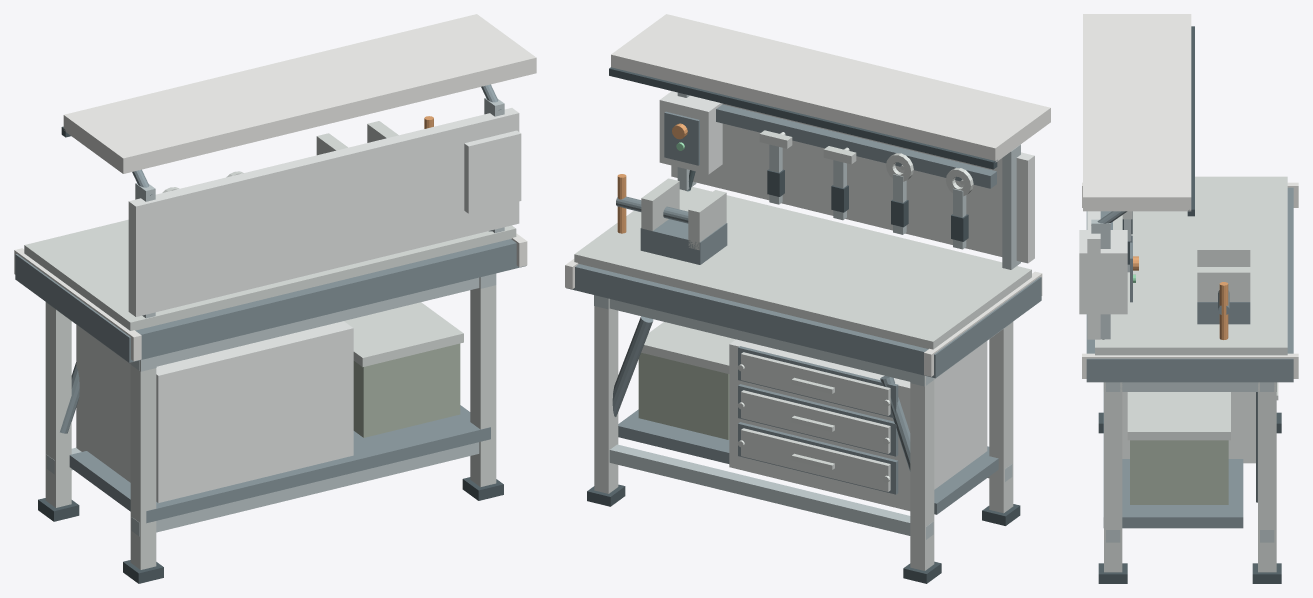
Rendered from exterior_workbench.glb.
The picture shows the model from 3 angles, left to right: view 1: azimuth 30°, elevation 25°; view 2: azimuth 150°, elevation 25°; view 3: azimuth 270°, elevation 25°; orthographic projection. The views are drawn at different scales.
Parts seen in each view (by area): view 1: splash_plate_white_ceramic, storage_cabinet_white_ceramic, weather_shelter_white_painted, worktop_core_dark_alloy, bench_frame_satin_steel, worktop_surface_satin_steel, lower_shelf_dark_alloy, bench_frame_alloy, service_crate_olive, service_crate_lid_satin_steel, service_power_box_white_ceramic, rubber_foot_black_rubber (+3 smaller); view 2: worktop_surface_satin_steel, weather_shelter_white_painted, splash_plate_white_ceramic, bench_frame_satin_steel, storage_cabinet_white_ceramic, worktop_core_dark_alloy, drawer_front_warm_panel, bench_frame_alloy, service_crate_olive, tool_mount_rail_dark_alloy, lower_shelf_dark_alloy, drawer_rail_dark_alloy (+16 smaller); view 3: worktop_surface_satin_steel, weather_shelter_white_painted, bench_frame_satin_steel, worktop_core_dark_alloy, service_crate_olive, service_crate_lid_satin_steel, lower_shelf_dark_alloy, service_power_box_white_ceramic, vise_jaw_satin_steel, storage_cabinet_white_ceramic, bench_frame_alloy, splash_plate_white_ceramic (+6 smaller).
Part boxes in pixels (x1,y1,x2,y2): splash_plate_white_ceramic: (128,108,519,316); storage_cabinet_white_ceramic: (76,321,353,502); weather_shelter_white_painted: (63,14,536,173); worktop_core_dark_alloy: (15,239,526,362); bench_frame_satin_steel: (45,277,496,569); worktop_surface_satin_steel: (24,219,516,330); lower_shelf_dark_alloy: (69,405,490,523); bench_frame_alloy: (46,273,496,536); service_crate_olive: (353,343,460,437); service_crate_lid_satin_steel: (344,302,463,366); service_power_box_white_ceramic: (464,130,521,213); rubber_foot_black_rubber: (38,477,503,583); worktop_surface_satin_steel: (574,187,1031,349); weather_shelter_white_painted: (611,14,1050,162); splash_plate_white_ceramic: (671,103,1034,263); bench_frame_satin_steel: (594,298,1013,570); storage_cabinet_white_ceramic: (729,339,987,510); worktop_core_dark_alloy: (566,264,1041,378); drawer_front_warm_panel: (741,352,890,491); bench_frame_alloy: (594,295,1013,539); service_crate_olive: (638,352,729,439); tool_mount_rail_dark_alloy: (716,104,996,188); lower_shelf_dark_alloy: (618,409,998,514); drawer_rail_dark_alloy: (738,346,898,494); worktop_surface_satin_steel: (1095,176,1287,355); weather_shelter_white_painted: (1083,14,1191,211); bench_frame_satin_steel: (1104,382,1276,572); worktop_core_dark_alloy: (1086,187,1293,382); service_crate_olive: (1130,440,1228,504); service_crate_lid_satin_steel: (1127,392,1230,440); lower_shelf_dark_alloy: (1103,392,1243,528); service_power_box_white_ceramic: (1079,230,1127,314); vise_jaw_satin_steel: (1197,244,1250,301); storage_cabinet_white_ceramic: (1122,392,1255,463); bench_frame_alloy: (1103,382,1276,542); splash_plate_white_ceramic: (1087,211,1100,339).
Bounding box in the file's own units: 1.8 × 1.82 × 0.91.
